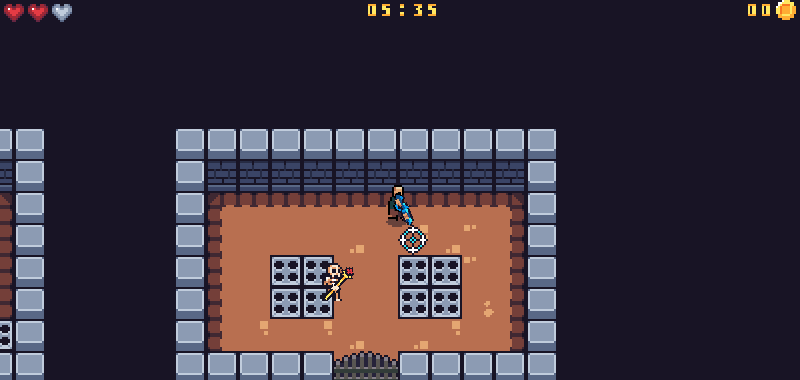trap_door: (330, 349, 399, 380)
trap_off: (269, 253, 336, 319), (396, 254, 463, 320)
